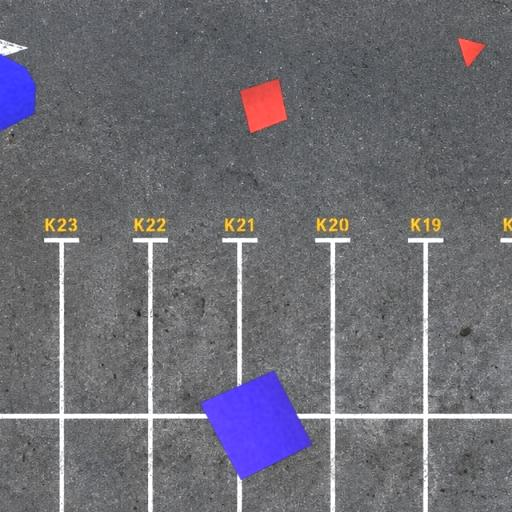BLUE_SQUARE: (199, 370, 314, 480)
RED_SQUARE: (239, 78, 288, 134)
